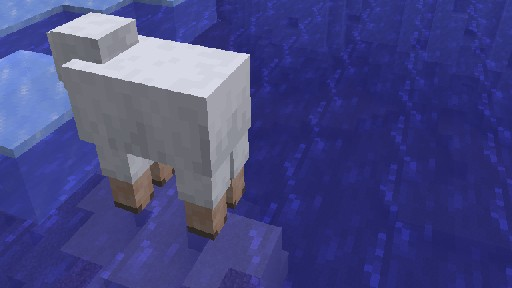sheep: (45, 11, 251, 240)
